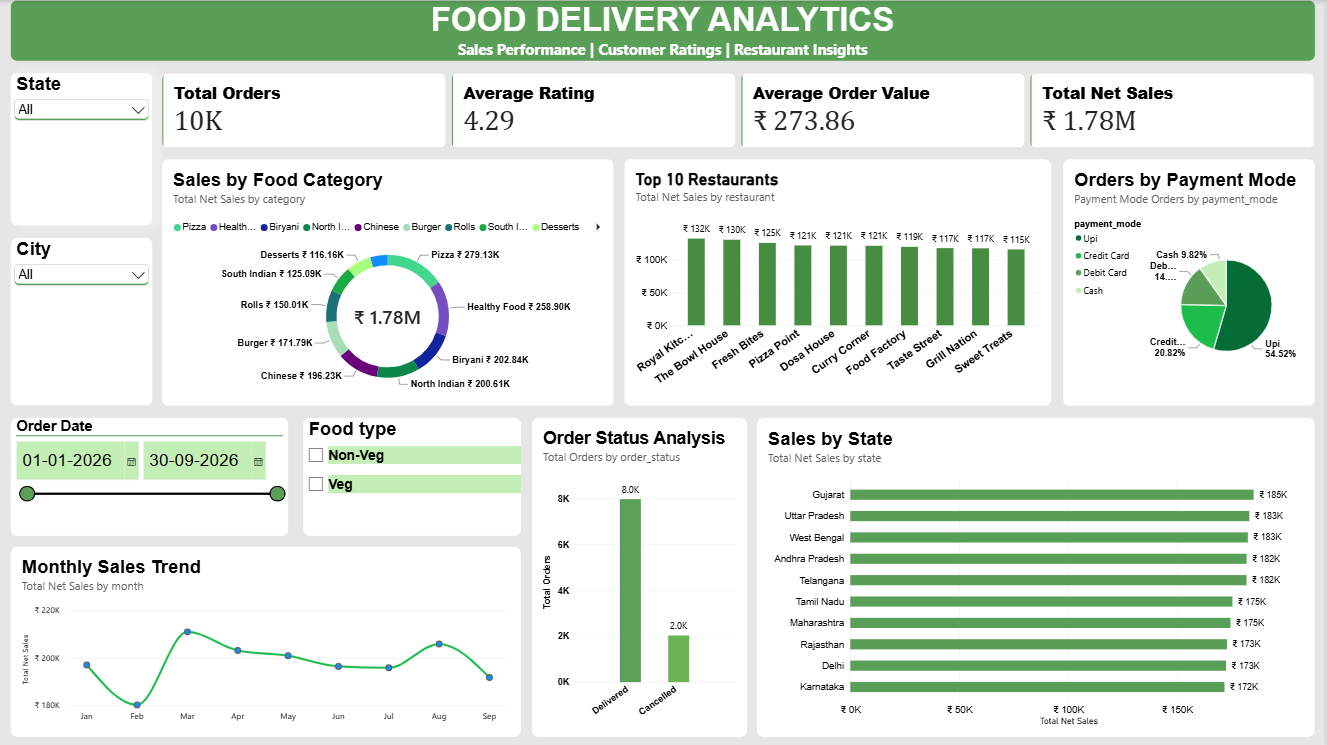

The dashboard page shown, as its layout file describes it:
{"tool":"powerbi","page":{"name":"Page 1","canvas":[1920,1080],"ordinal":0},"visuals":[{"type":"cardVisual","fields":{"Data":["Sheet1.Total Orders","Sheet1.Average Rating","Sheet1.Average Order Value","Sheet1.Total Net Sales"]},"box":[235.3,105,1670.3,110.4],"z":0},{"type":"textbox","box":[16.3,0,1889.3,88.7],"z":1000},{"type":"lineChart","title":"Monthly Sales Trend","fields":{"Category":["Sheet1.month"],"Y":["Sheet1.Total Net Sales"]},"box":[16.3,790.8,740.2,276.9],"z":2000},{"type":"barChart","title":"Sales by State","fields":{"Category":["Sheet1.state"],"Y":["Sheet1.Total Net Sales"]},"box":[1096.7,604.4,808.9,463.3],"z":3000},{"type":"clusteredColumnChart","title":"Top 10 Restaurants","fields":{"Category":["Sheet1.restaurant"],"Y":["Sheet1.Total Net Sales"]},"box":[904.8,229.8,618.9,358.3],"z":4000},{"type":"donutChart","title":"Sales by Food Category","fields":{"Category":["Sheet1.category"],"Y":["Sheet1.Total Net Sales"]},"box":[235.3,229.8,655.1,358.3],"z":5000},{"type":"pieChart","title":"Orders by Payment Mode","fields":{"Category":["Sheet1.payment_mode"],"Y":["Sheet1.Payment Mode Orders"]},"box":[1540,229.8,365.6,358.3],"z":6000},{"type":"clusteredColumnChart","title":"Order Status Analysis","fields":{"Category":["Sheet1.order_status"],"Y":["Sheet1.Total Orders"]},"box":[770.9,604.4,313.1,463.3],"z":7000},{"type":"slicer","fields":{"Values":["Sheet1.state"]},"box":[16.3,105,206.3,222.6],"z":8000},{"type":"slicer","fields":{"Values":["Sheet1.city"]},"box":[16.3,343.8,206.3,244.3],"z":9000},{"type":"slicer","fields":{"Values":["Sheet1.food_type"]},"box":[439.7,604.4,316.7,171.9],"z":10000},{"type":"slicer","fields":{"Values":["Sheet1.order_date"]},"box":[16.3,604.4,403.6,171.9],"z":11000}]}

Visuals, with their boxes in screenshot pixels (x1, y1, x2, y2), scaled from the page's 1920x1080 canvas onto the 1327x745 screenshot:
cardVisual - Sheet1.Total Orders x Sheet1.Average Rating: [left=163, top=72, right=1317, bottom=149]
textbox: [left=11, top=0, right=1317, bottom=61]
"Monthly Sales Trend" lineChart: [left=11, top=546, right=523, bottom=737]
"Sales by State" barChart: [left=758, top=417, right=1317, bottom=737]
"Top 10 Restaurants" clusteredColumnChart: [left=625, top=159, right=1053, bottom=406]
"Sales by Food Category" donutChart: [left=163, top=159, right=615, bottom=406]
"Orders by Payment Mode" pieChart: [left=1064, top=159, right=1317, bottom=406]
"Order Status Analysis" clusteredColumnChart: [left=533, top=417, right=749, bottom=737]
slicer - Sheet1.state: [left=11, top=72, right=154, bottom=226]
slicer - Sheet1.city: [left=11, top=237, right=154, bottom=406]
slicer - Sheet1.food_type: [left=304, top=417, right=523, bottom=536]
slicer - Sheet1.order_date: [left=11, top=417, right=290, bottom=536]
